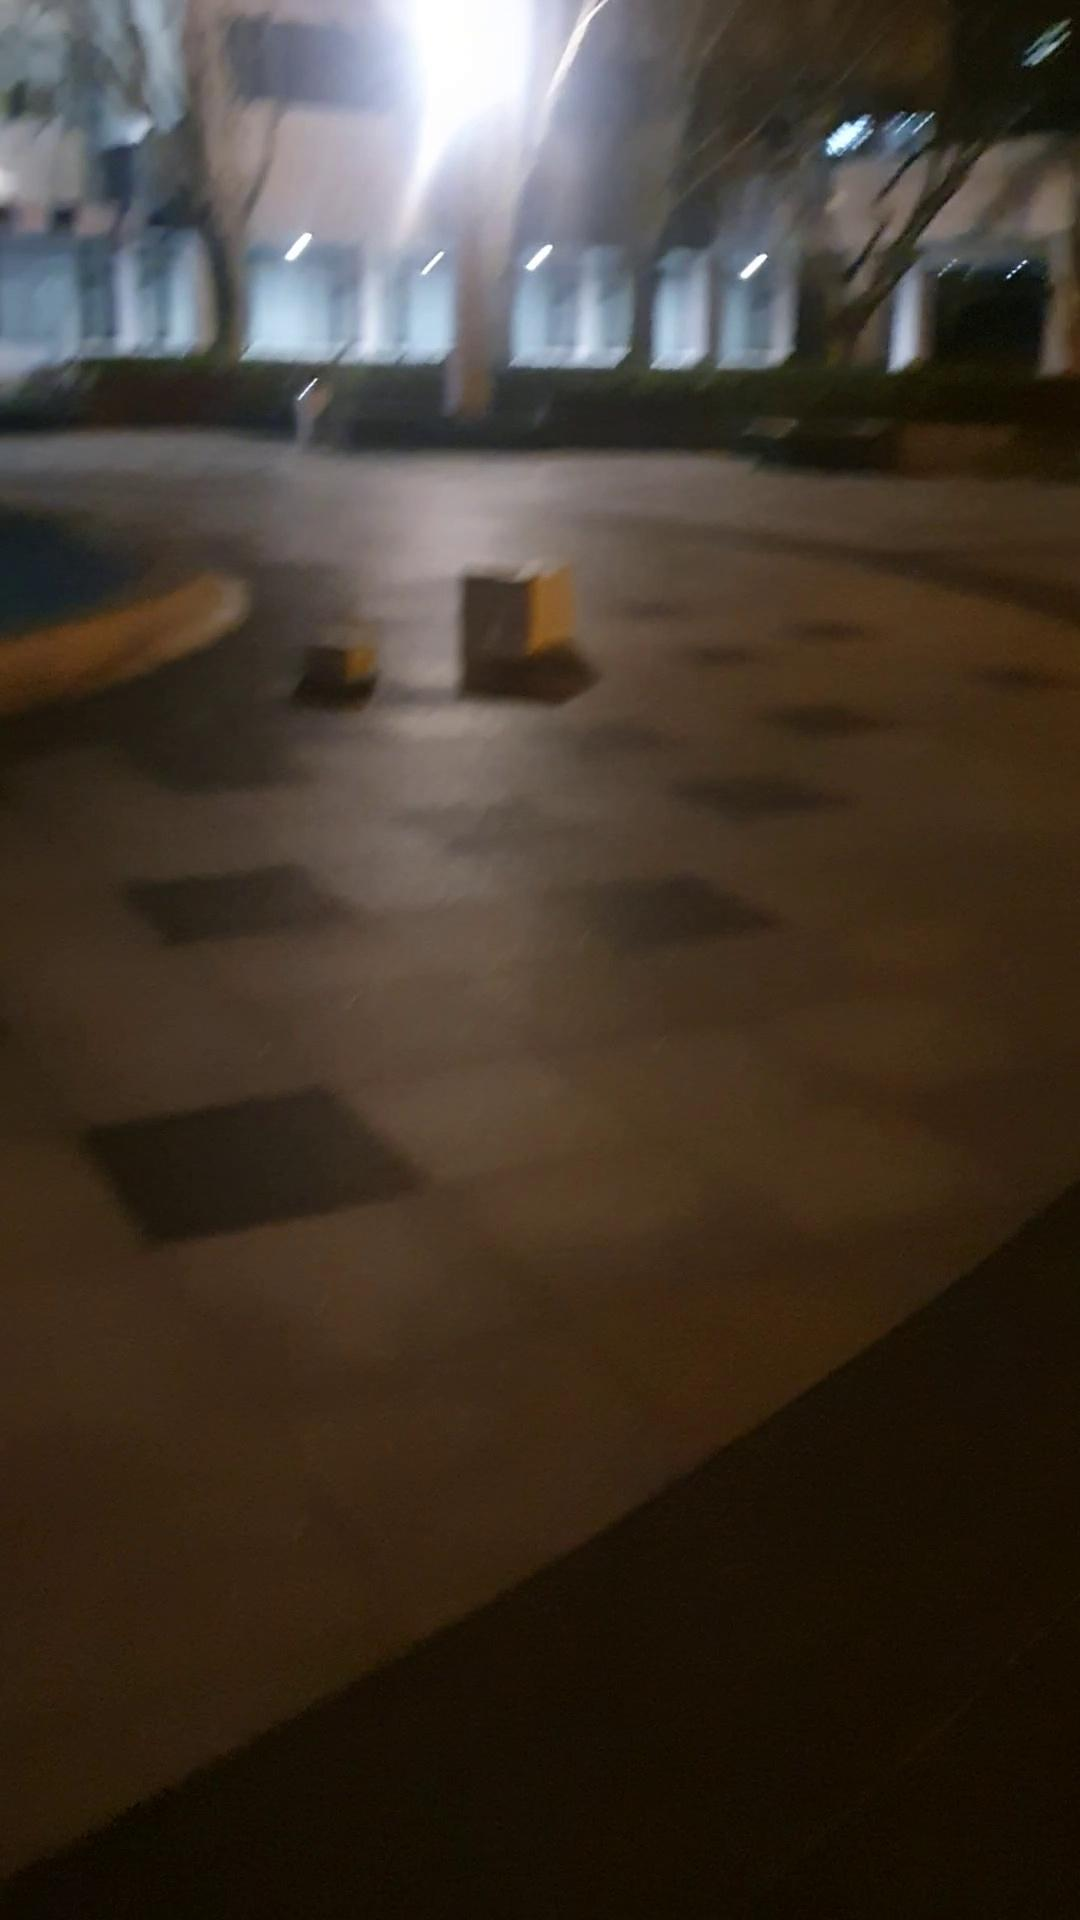Box: (456, 549, 583, 670), (291, 640, 382, 707)
